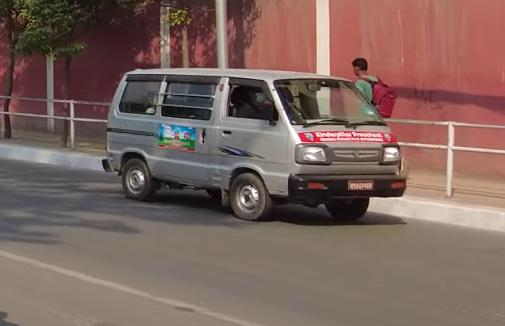van: (98, 62, 418, 221)
